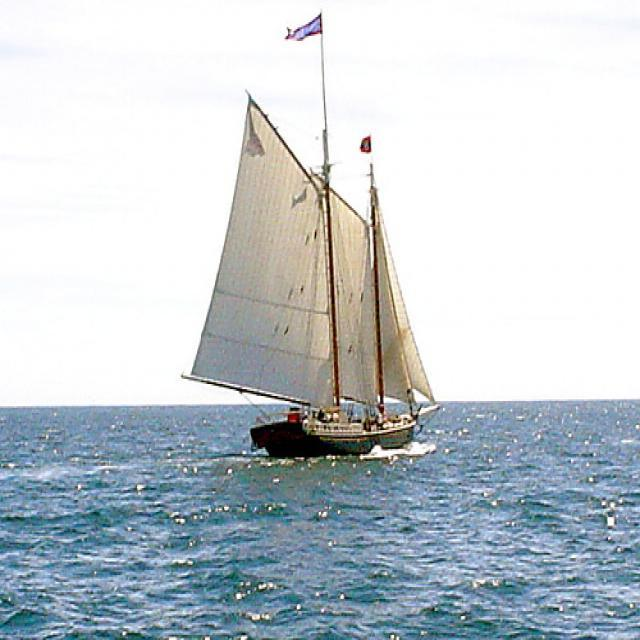Ship: (191, 75, 437, 458)
